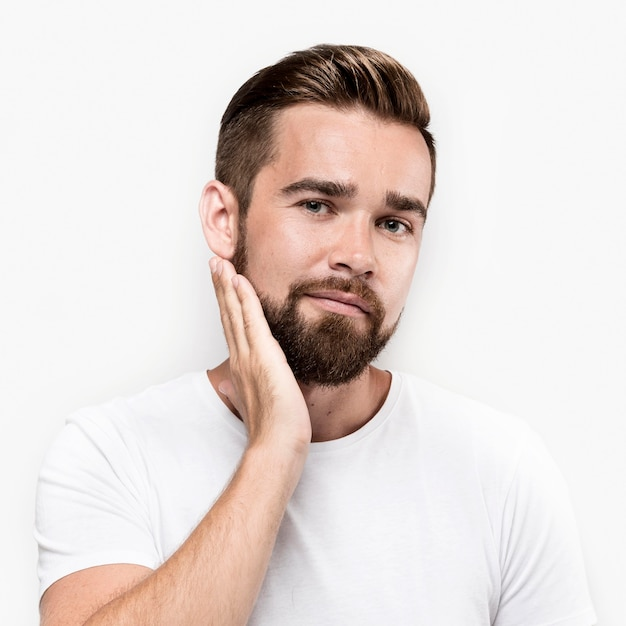young: (202, 34, 450, 379)
